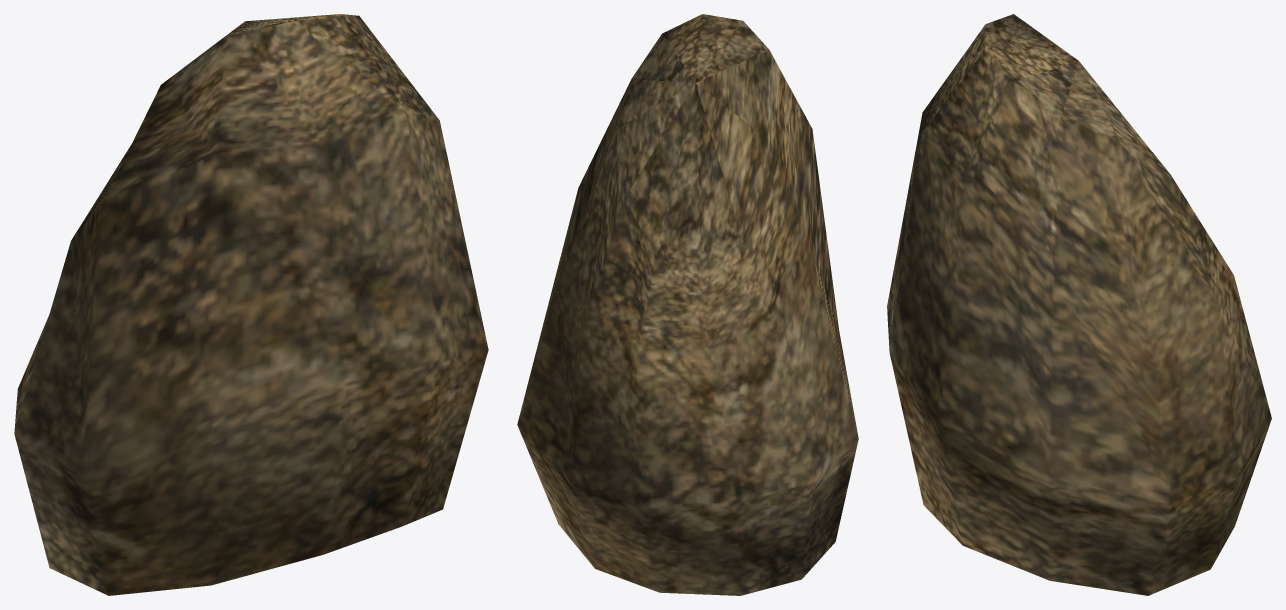
The model's file is CH09_SMAUG_PLAYSURFACE_LONELYMOUNTAIN_LM_PLAYSURFACE11.fbx.
The picture shows the model from 3 angles, left to right: view 1: azimuth 30°, elevation 25°; view 2: azimuth 150°, elevation 25°; view 3: azimuth 270°, elevation 25°; orthographic projection. The views are drawn at different scales.
Visible parts, largest first — view 1: CH09_SMAUG_PLAYSURFACE_LONELYMOUNTAIN_LM_PLAYSURFACE11; view 2: CH09_SMAUG_PLAYSURFACE_LONELYMOUNTAIN_LM_PLAYSURFACE11; view 3: CH09_SMAUG_PLAYSURFACE_LONELYMOUNTAIN_LM_PLAYSURFACE11.
Boxes of the visible parts, <box> form: CH09_SMAUG_PLAYSURFACE_LONELYMOUNTAIN_LM_PLAYSURFACE11: <box>14,14,488,595</box>; CH09_SMAUG_PLAYSURFACE_LONELYMOUNTAIN_LM_PLAYSURFACE11: <box>517,14,858,595</box>; CH09_SMAUG_PLAYSURFACE_LONELYMOUNTAIN_LM_PLAYSURFACE11: <box>887,14,1271,595</box>.
Bounding box in the file's own units: 17333 × 25331 × 16925.
Materials: 1 (1 with a texture image).
